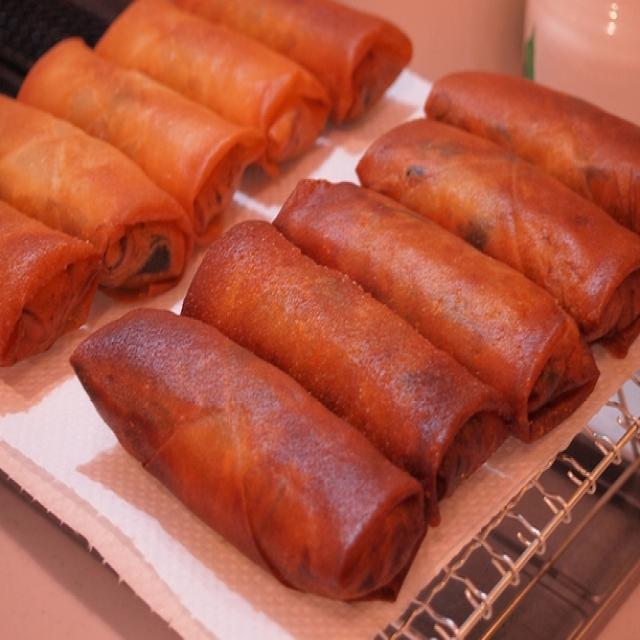炸货点心: (20, 16, 627, 602)
